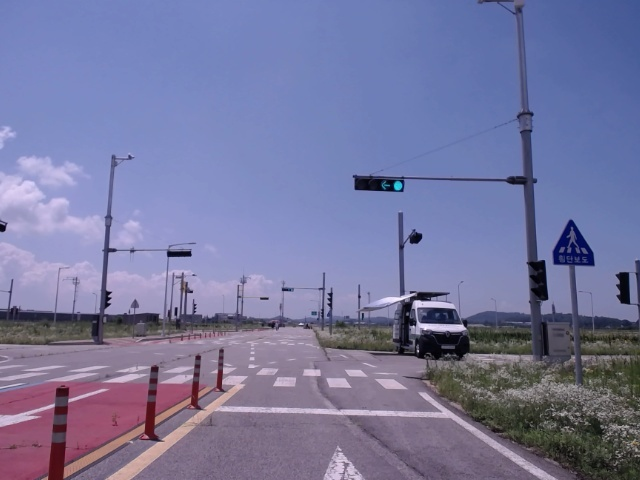all_green_4: (357, 173, 409, 192)
